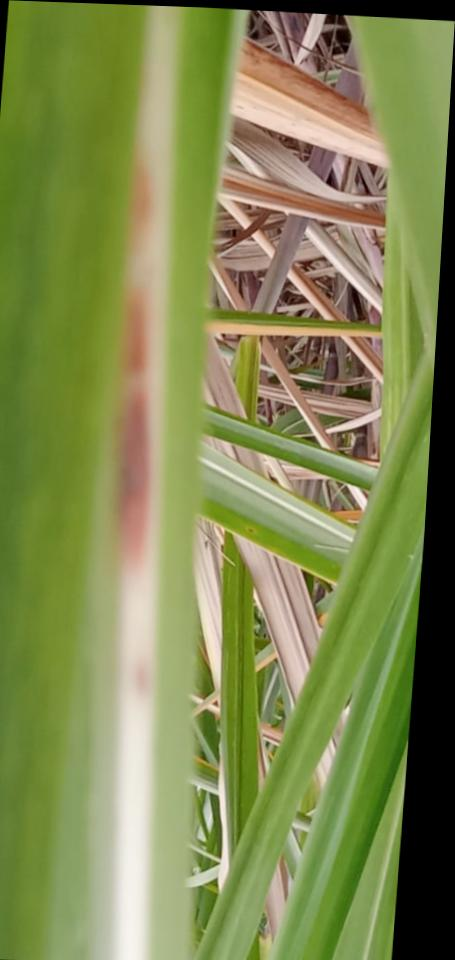RedRot: (115, 284, 151, 574), (127, 140, 155, 253), (134, 661, 149, 695)
